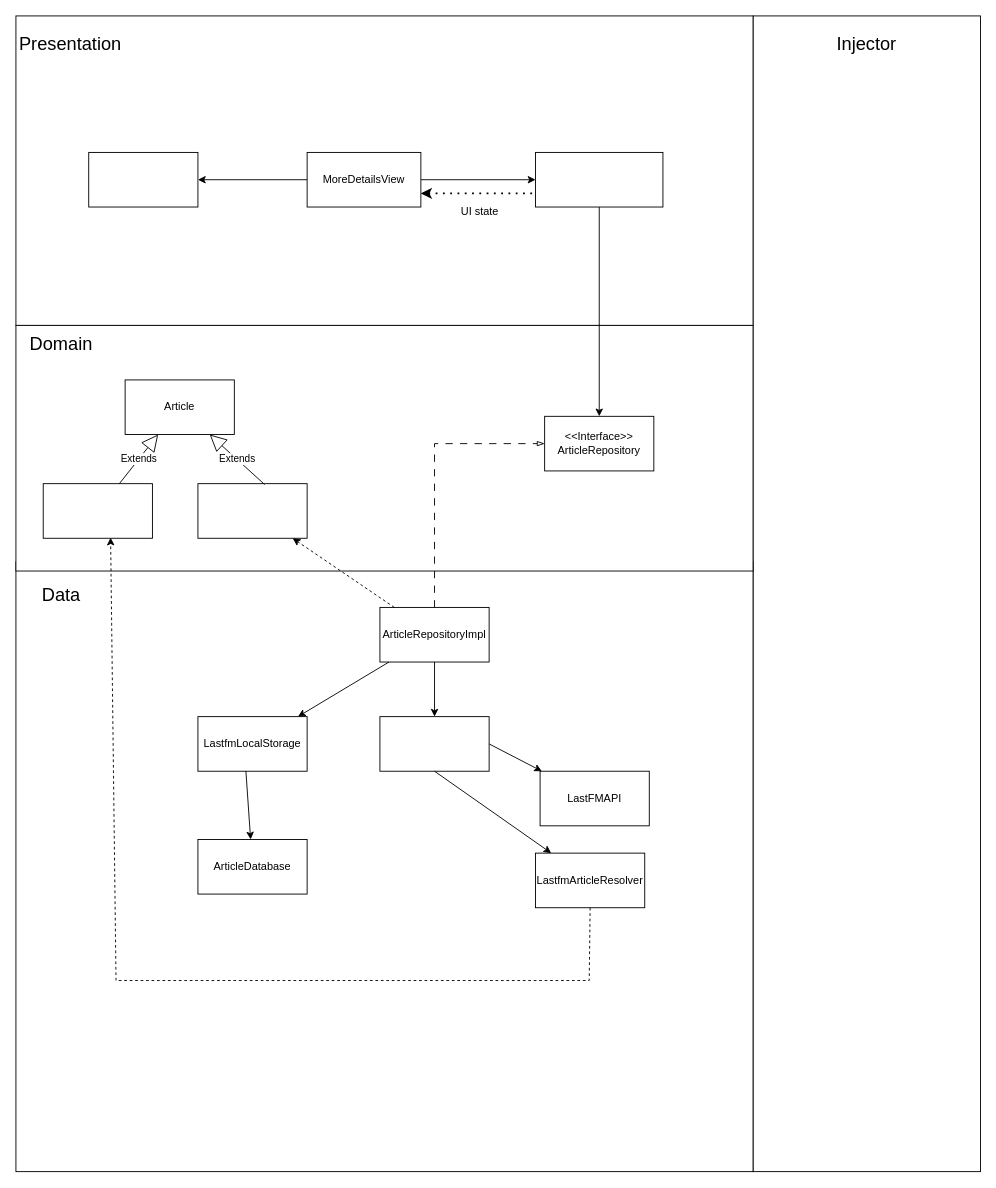
Some shapes in this 996 by 1188 pixel diagram are drawn without their labels. The centre of each missing label's shape, as x and y in pixels:
"EmptyArticle" goes at [252,510].
"LastFmArticle" goes at [97,510].
"LastfmArticleService" goes at [434,743].
"MoreDetailsPresenter" goes at [599,179].
"MoreDetailsUIState" goes at [143,179].
